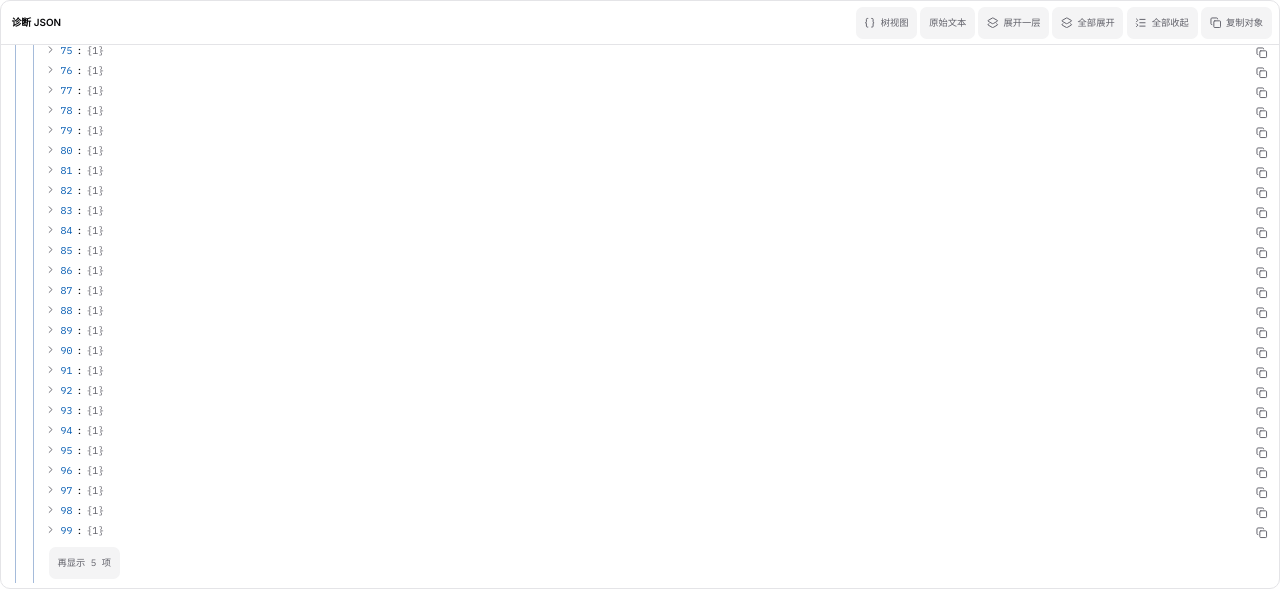
Test: console JSON inspector › opens error paths by default and mounts array entries in batches
(page scrolled)
Check: the text "99" is shown, box left=61, top=524, right=72, bottom=537
Check: the text "100" is not shown
Click the button "再显示 5 项".
click(84, 563)  # box left=49, top=547, right=120, bottom=579
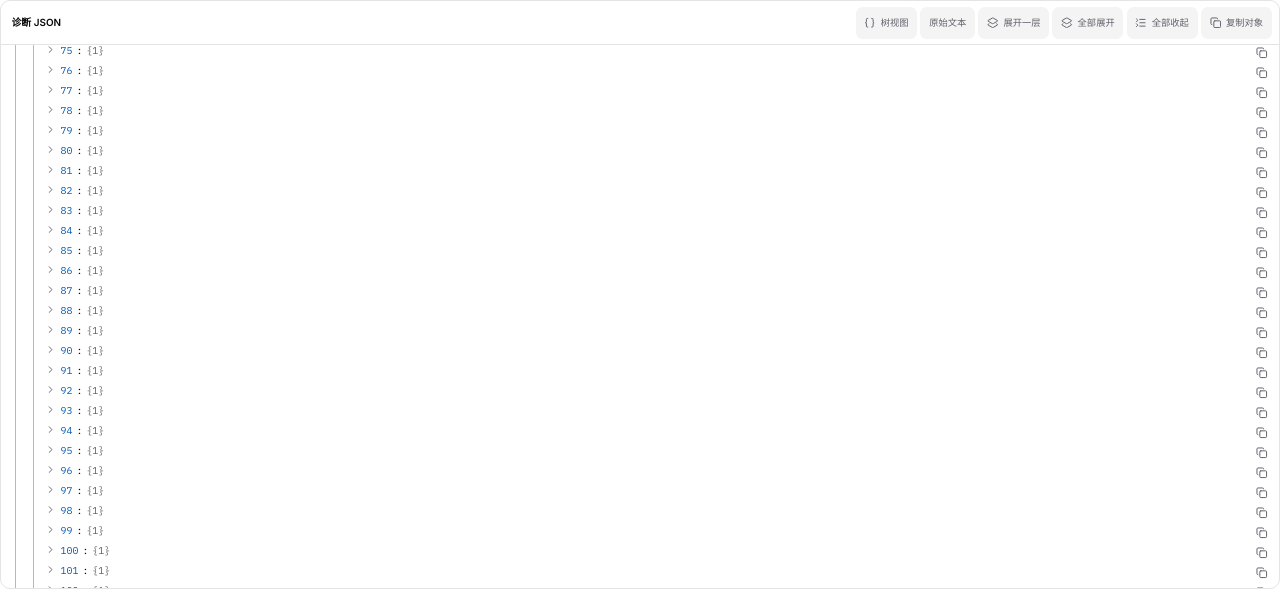
Check: the text "100" is shown, box left=61, top=544, right=78, bottom=557
